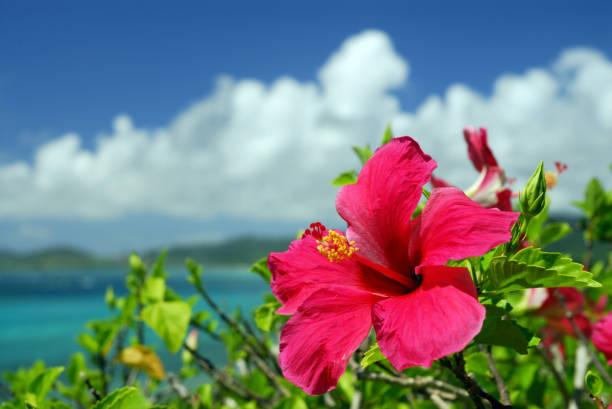Hibiscus: (242, 140, 516, 389)
